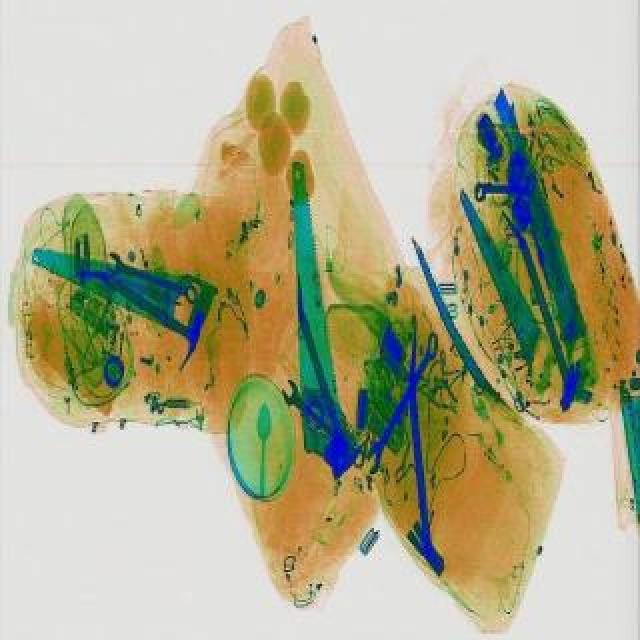scissors: (358, 330, 446, 476), (278, 374, 374, 468), (102, 250, 202, 308), (474, 170, 538, 202)
